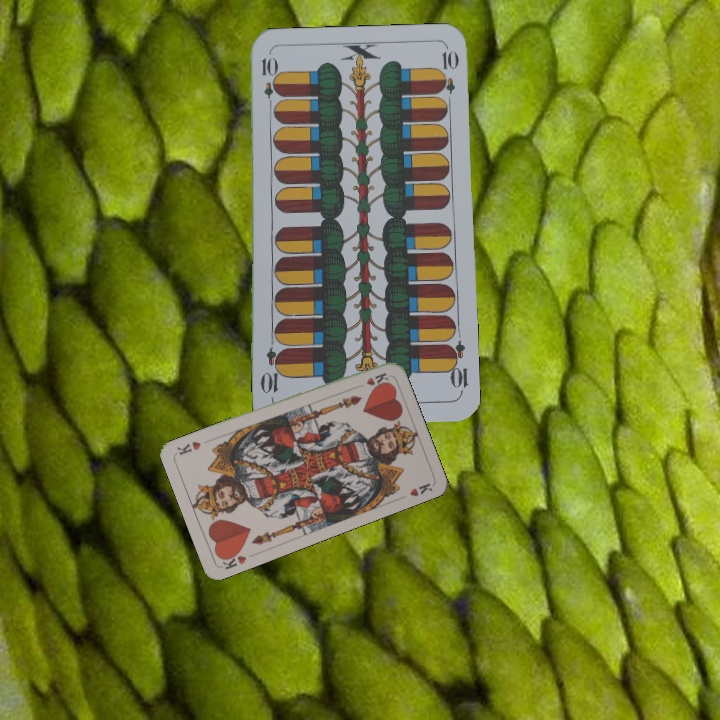E10: (443, 337, 470, 397), (257, 53, 277, 112)
HK: (216, 547, 249, 572), (362, 369, 391, 388)
